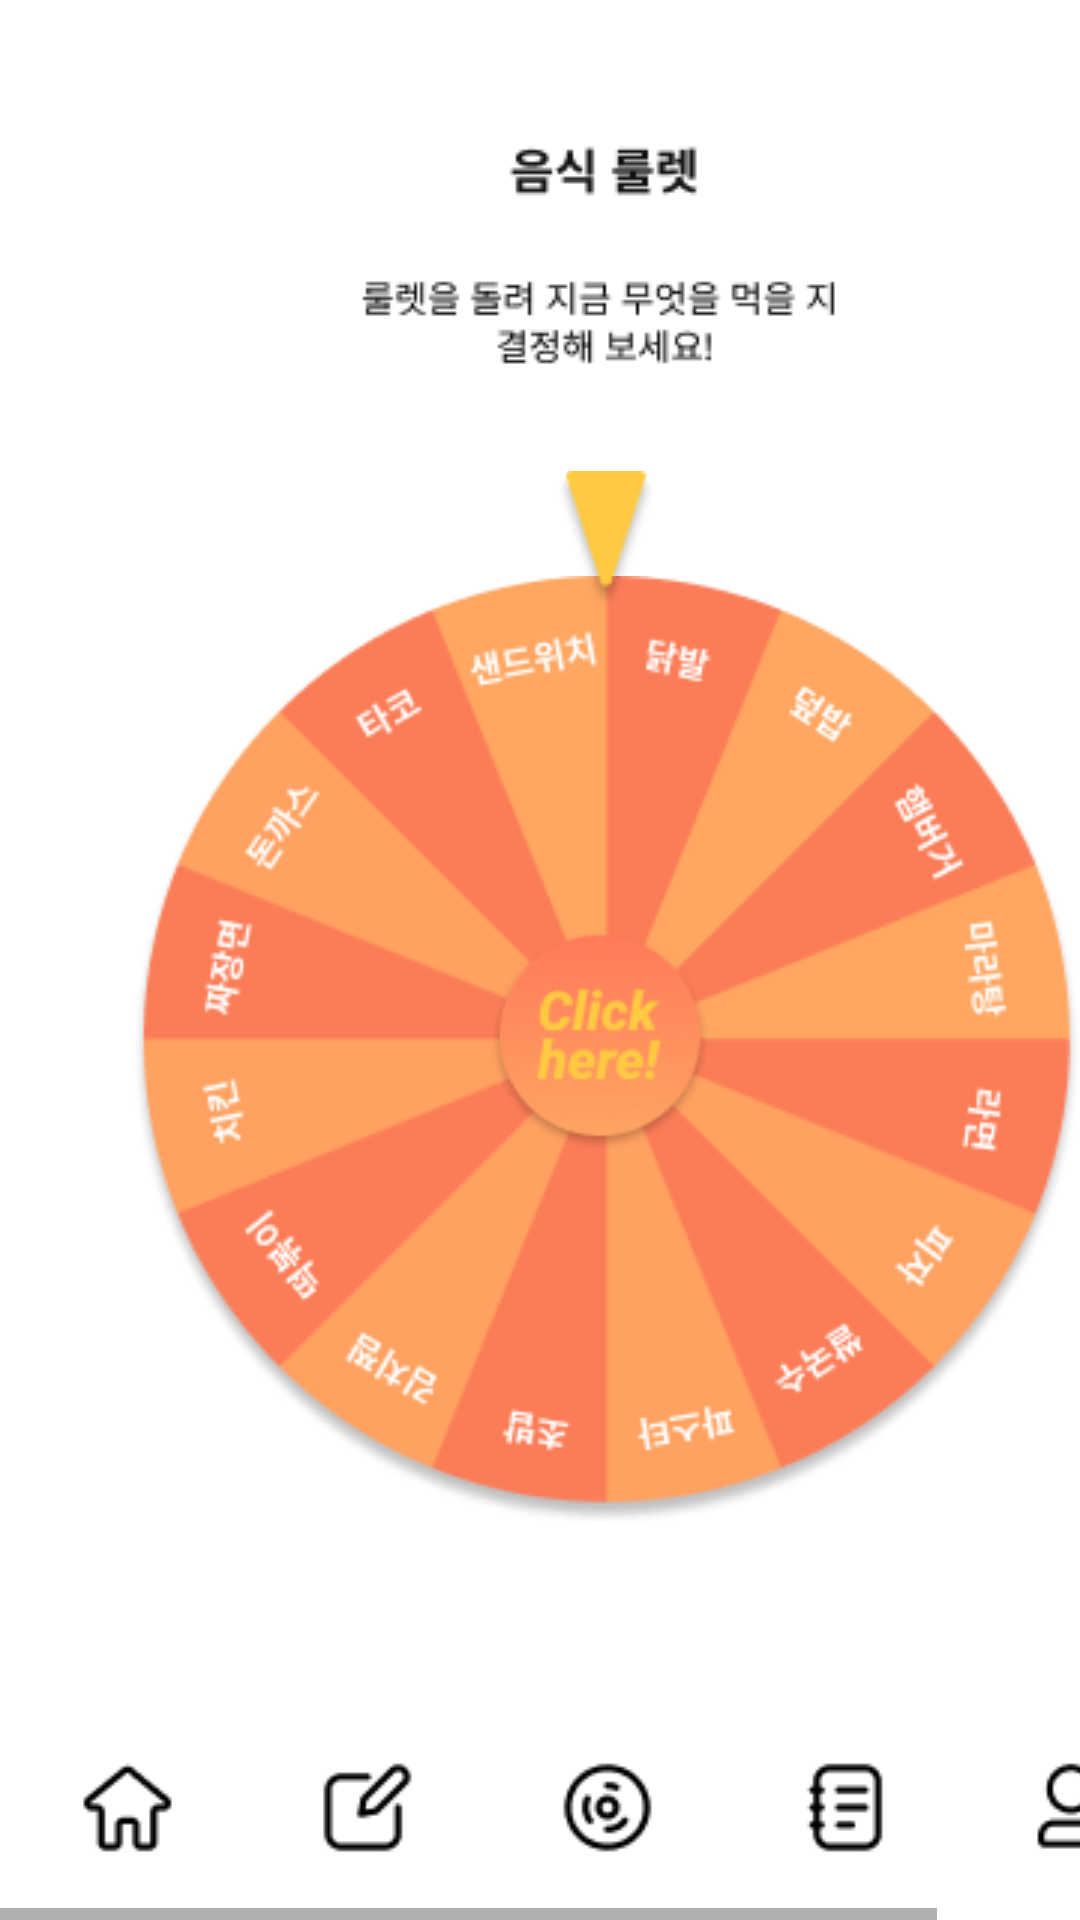

Point at icon controls on the screen. Image size 1080w x 1920h, points as [x,y].
homeicon: [127,1808]
rouletteicon: [607,1807]
